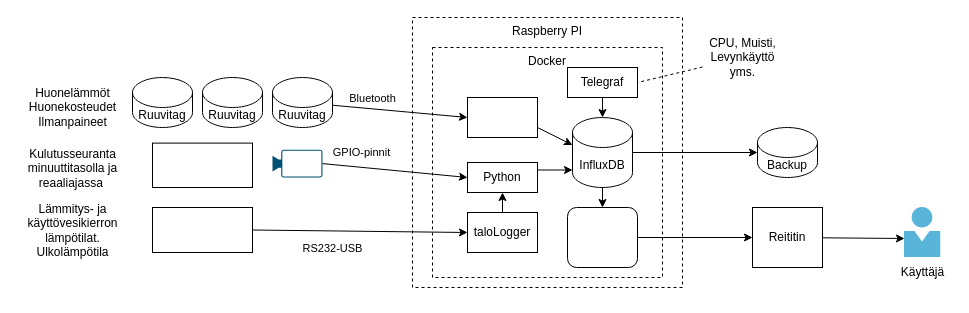
The diagram is 969 pixels wide and 313 high, and some of its shapes have lost their labels. The centre of each missing label's shape, as x and y in pixels:
Grafana: point (602, 237)
LM393 Valosensori: point (297, 163)
Ouman 203 Lämmönvaihdin: point (202, 229)
Ruuvi Collector: point (502, 117)
Sähkömittari LED-ilmaisimella: point (202, 165)
